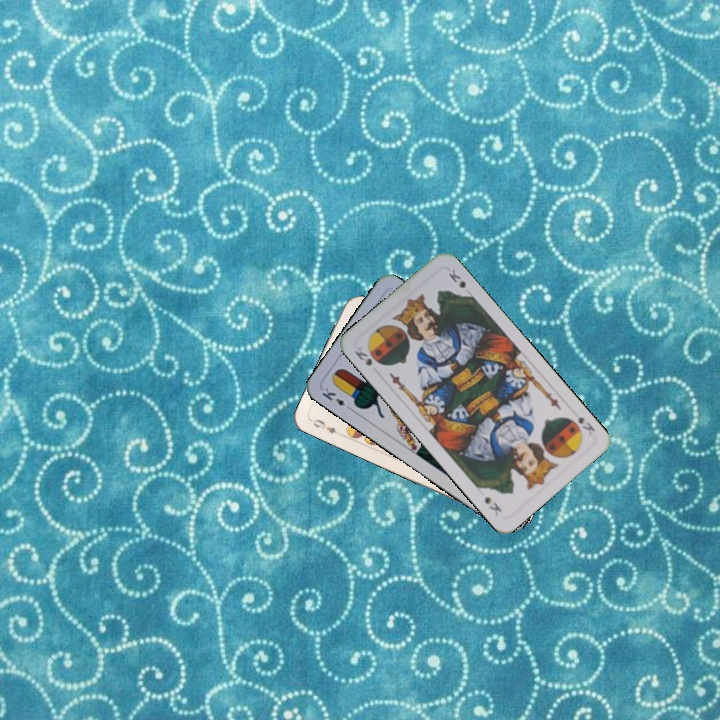E9: (307, 415, 345, 438)
EK: (318, 383, 355, 414)
SK: (350, 343, 375, 368), (574, 412, 598, 438)
